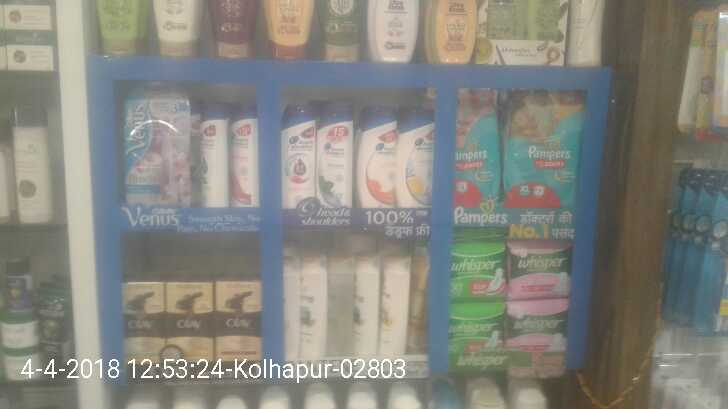venus: (125, 82, 193, 205)
